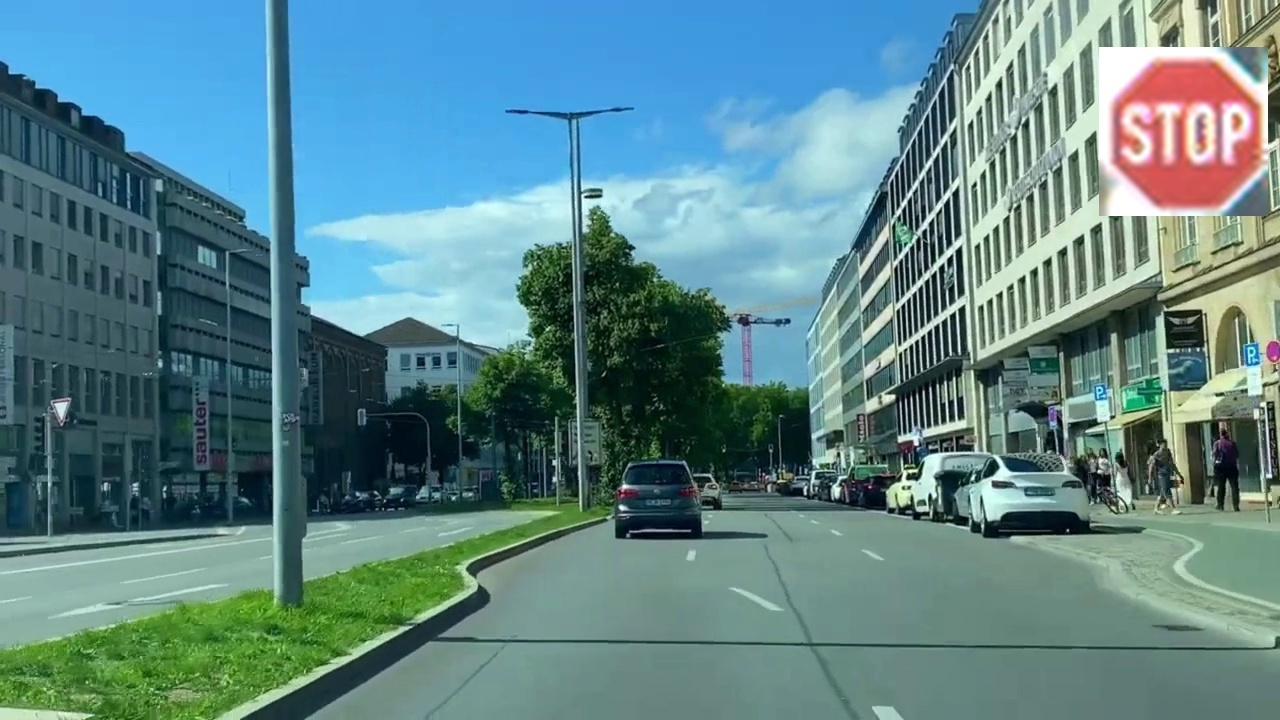Stop: (1099, 47, 1268, 216)
